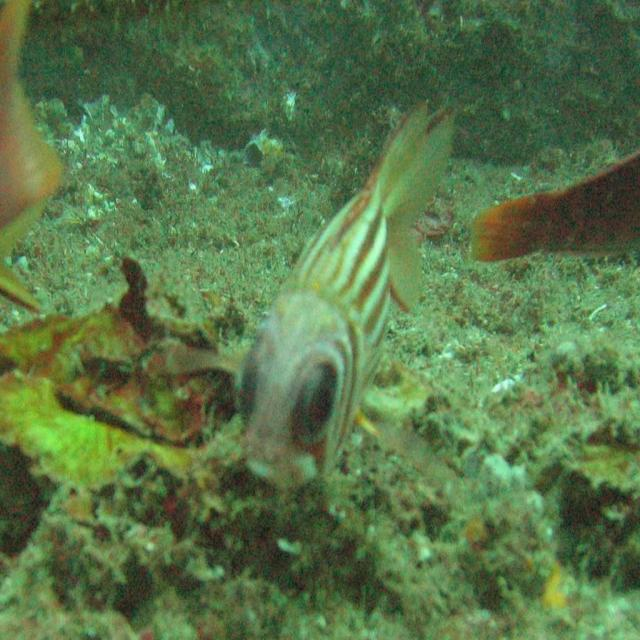Asker Baligi: (224, 84, 480, 502)
